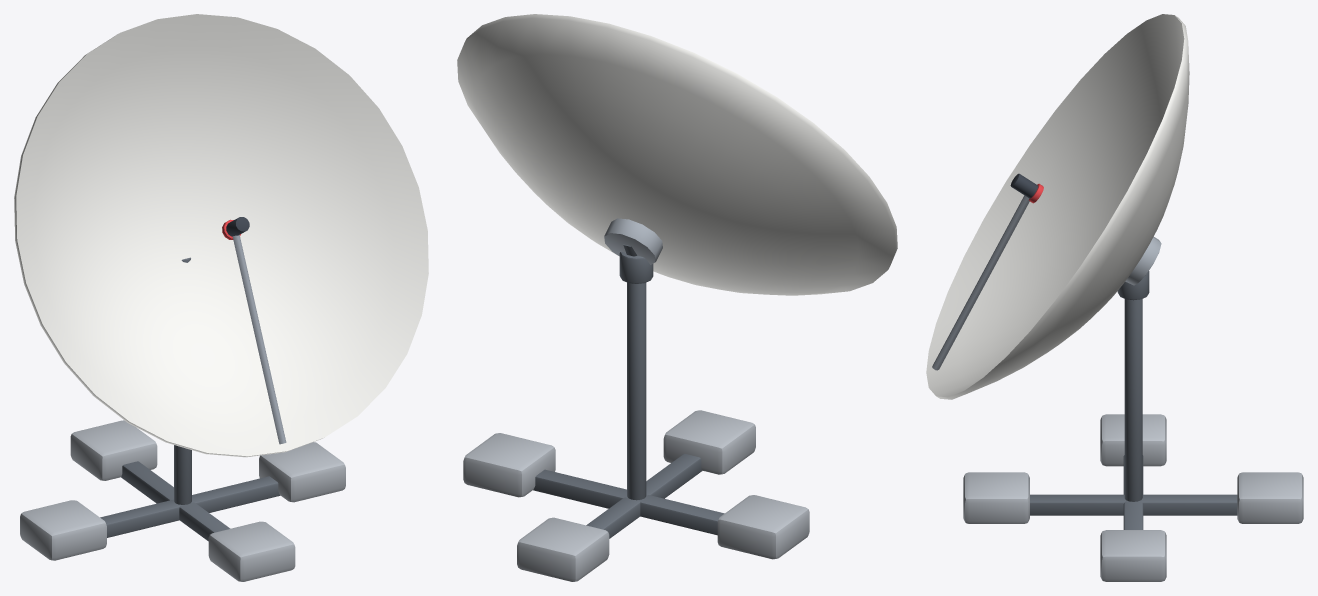
File: antena_parabolica_grande.glb
3 views of the same model, side by side, from view 1: azimuth 30°, elevation 25°; view 2: azimuth 150°, elevation 25°; view 3: azimuth 270°, elevation 25° (orthographic). The views are drawn at different scales.
Parts seen in each view (by area): view 1: antena_parabolica_grande; view 2: antena_parabolica_grande; view 3: antena_parabolica_grande.
Boxes of the visible parts, bbox=[...] form: antena_parabolica_grande: bbox=[14, 14, 428, 581]; antena_parabolica_grande: bbox=[457, 14, 897, 581]; antena_parabolica_grande: bbox=[926, 14, 1303, 581].
Bounding box in the file's own units: 2.3 × 2.67 × 1.93.
1 material, 1 textured.
